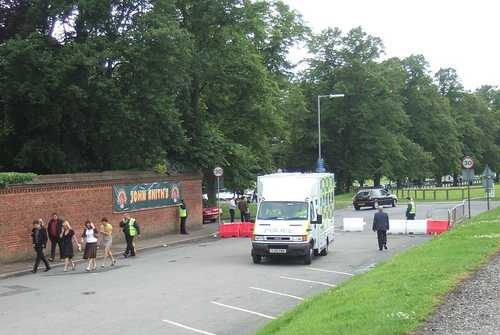Ambulance: (245, 166, 346, 265)
